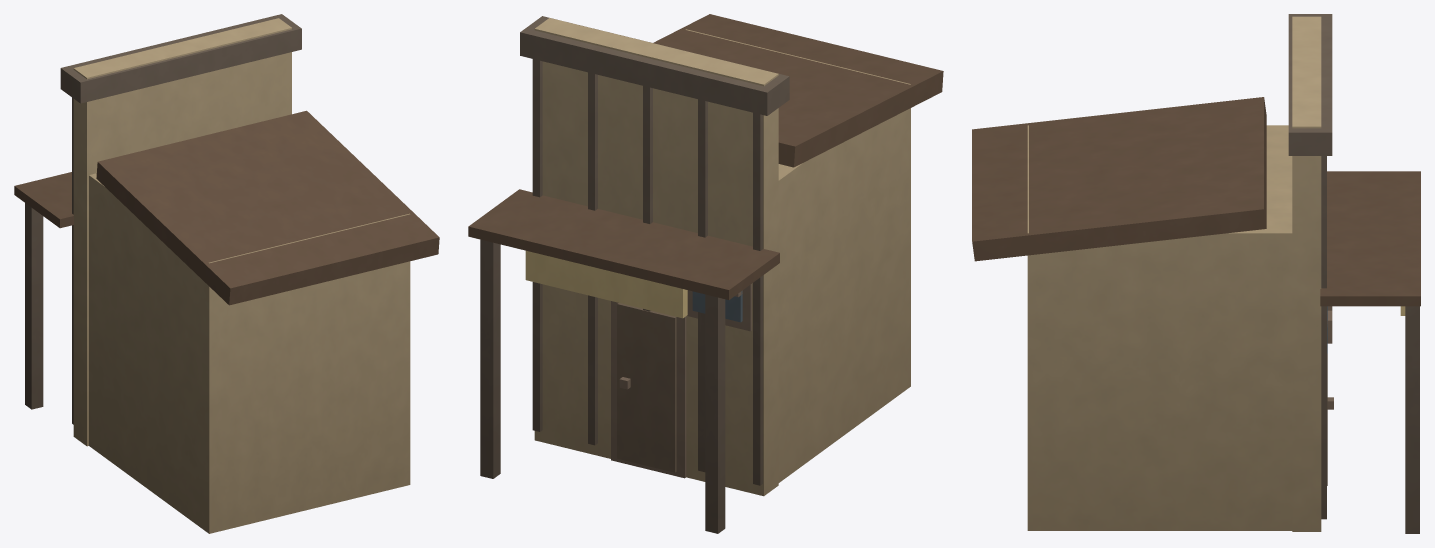
The model's file is building_store.glb.
3 views of the same model, side by side, from view 1: azimuth 30°, elevation 25°; view 2: azimuth 150°, elevation 25°; view 3: azimuth 270°, elevation 25° (orthographic). The views are drawn at different scales.
Visible parts, largest first — view 1: building_store; view 2: building_store; view 3: building_store.
Boxes of the visible parts, bbox=[...] form: building_store: bbox=[14, 14, 439, 533]; building_store: bbox=[468, 14, 943, 533]; building_store: bbox=[972, 14, 1420, 533].
Size of the model in its own units: 1.62 by 2.45 by 2.46.
1 material, 1 textured.
